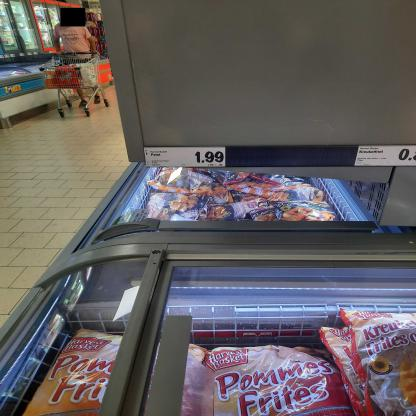prtg: (145, 148, 226, 168), (355, 146, 415, 167)
